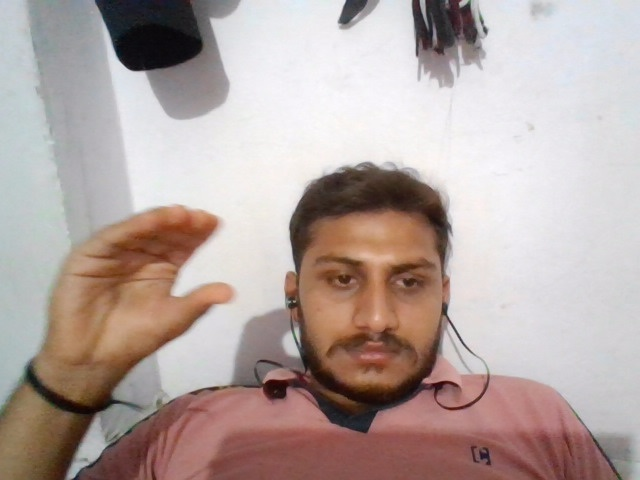No: (37, 194, 240, 369)
